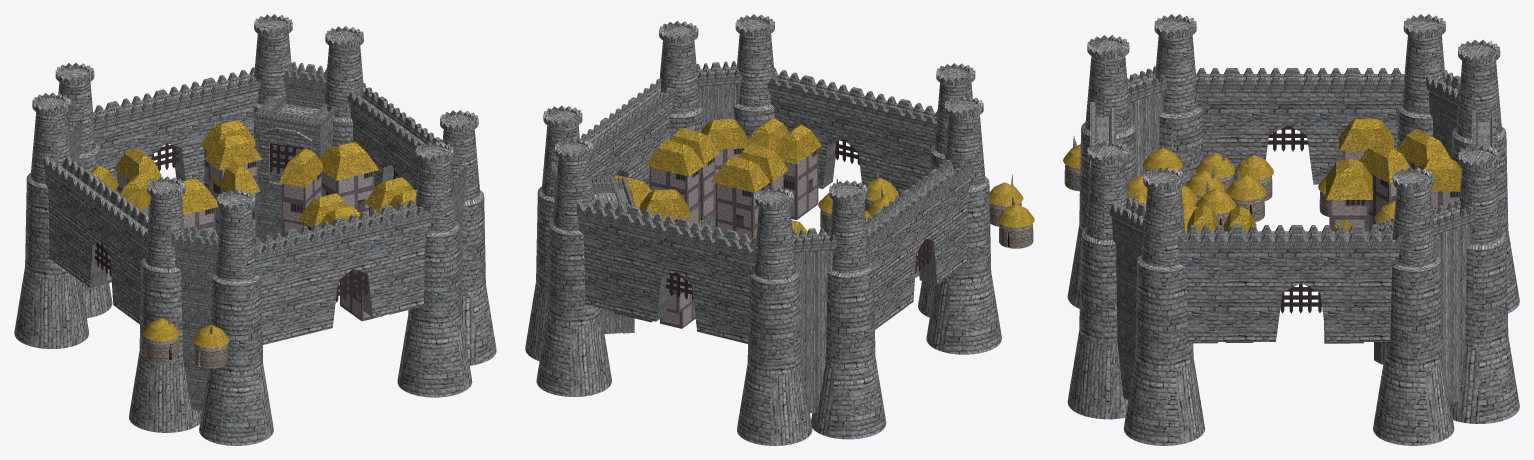
The model's file is City 1.obj.
The picture shows the model from 3 angles, left to right: view 1: azimuth 30°, elevation 25°; view 2: azimuth 150°, elevation 25°; view 3: azimuth 270°, elevation 25°; orthographic projection. The views are drawn at different scales.
Parts seen in each view (by area): view 1: Cube.028_Cube.002, Plane.021_Plane.022, Plane.022_Plane.023, Plane.020_Plane.021, Plane.019_Plane.008, Cube.027_Cube.001, Cube.031_Cube.005, Plane.002_Plane.003, Cube.017_Cube.020, Cube.029_Cube.003, Cube.030_Cube.004, Plane.023_Plane.024 (+33 smaller); view 2: Cube.031_Cube.005, Plane.023_Plane.024, Plane.020_Plane.021, Plane.024_Plane.025, Plane.019_Plane.008, Cube.028_Cube.002, Cube.027_Cube.001, Plane.018_Plane.007, Cube.035, Cube.030_Cube.004, Plane.022_Plane.023, Cube.029_Cube.003 (+26 smaller); view 3: Cube.019_Cube.025, Plane.002_Plane.003, Plane.018_Plane.007, Plane.024_Plane.025, Plane.022_Plane.023, Cube.027_Cube.001, Plane.019_Plane.008, Plane.021_Plane.022, Plane.023_Plane.024, Cube.020_Cube.026, Cube.026_Cube.000, Cube.032_Cube.007 (+28 smaller).
Part boxes in pixels (x1=…): Cube.028_Cube.002: x1=255, y1=212, x2=431, y2=344; Plane.021_Plane.022: x1=199, y1=189, x2=273, y2=445; Plane.022_Plane.023: x1=397, y1=141, x2=472, y2=397; Plane.020_Plane.021: x1=14, y1=93, x2=88, y2=348; Plane.019_Plane.008: x1=129, y1=176, x2=201, y2=432; Cube.027_Cube.001: x1=45, y1=167, x2=147, y2=324; Cube.031_Cube.005: x1=94, y1=82, x2=258, y2=191; Plane.002_Plane.003: x1=440, y1=110, x2=496, y2=365; Cube.017_Cube.020: x1=174, y1=238, x2=217, y2=411; Cube.029_Cube.003: x1=254, y1=200, x2=434, y2=261; Cube.030_Cube.004: x1=93, y1=67, x2=260, y2=129; Plane.023_Plane.024: x1=55, y1=62, x2=112, y2=318; Cube.031_Cube.005: x1=577, y1=210, x2=755, y2=343; Plane.023_Plane.024: x1=737, y1=187, x2=812, y2=445; Plane.020_Plane.021: x1=811, y1=180, x2=886, y2=439; Plane.024_Plane.025: x1=536, y1=138, x2=611, y2=396; Plane.019_Plane.008: x1=926, y1=95, x2=1001, y2=354; Cube.028_Cube.002: x1=770, y1=82, x2=936, y2=196; Cube.027_Cube.001: x1=867, y1=171, x2=970, y2=329; Plane.018_Plane.007: x1=525, y1=105, x2=582, y2=360; Cube.035: x1=793, y1=241, x2=833, y2=413; Cube.030_Cube.004: x1=576, y1=197, x2=758, y2=259; Plane.022_Plane.023: x1=734, y1=14, x2=774, y2=140; Cube.029_Cube.003: x1=767, y1=67, x2=937, y2=131; Cube.019_Cube.025: x1=1178, y1=239, x2=1399, y2=341; Plane.002_Plane.003: x1=1123, y1=167, x2=1205, y2=445; Plane.018_Plane.007: x1=1373, y1=167, x2=1454, y2=445; Plane.024_Plane.025: x1=1450, y1=145, x2=1519, y2=423; Plane.022_Plane.023: x1=1067, y1=140, x2=1129, y2=419; Cube.027_Cube.001: x1=1196, y1=82, x2=1403, y2=184; Plane.019_Plane.008: x1=1154, y1=14, x2=1203, y2=185; Plane.021_Plane.022: x1=1067, y1=35, x2=1136, y2=308; Plane.023_Plane.024: x1=1451, y1=39, x2=1519, y2=313; Cube.020_Cube.026: x1=1177, y1=225, x2=1403, y2=249; Cube.026_Cube.000: x1=1195, y1=68, x2=1405, y2=92; Cube.032_Cube.007: x1=1434, y1=222, x2=1471, y2=403.
Bounding box in the file's own units: 0.9302 × 0.5679 × 0.9286.
7 materials, 7 textured.
